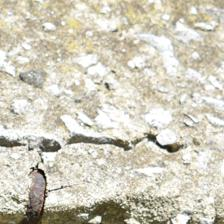Crack: (1, 60, 186, 97)
